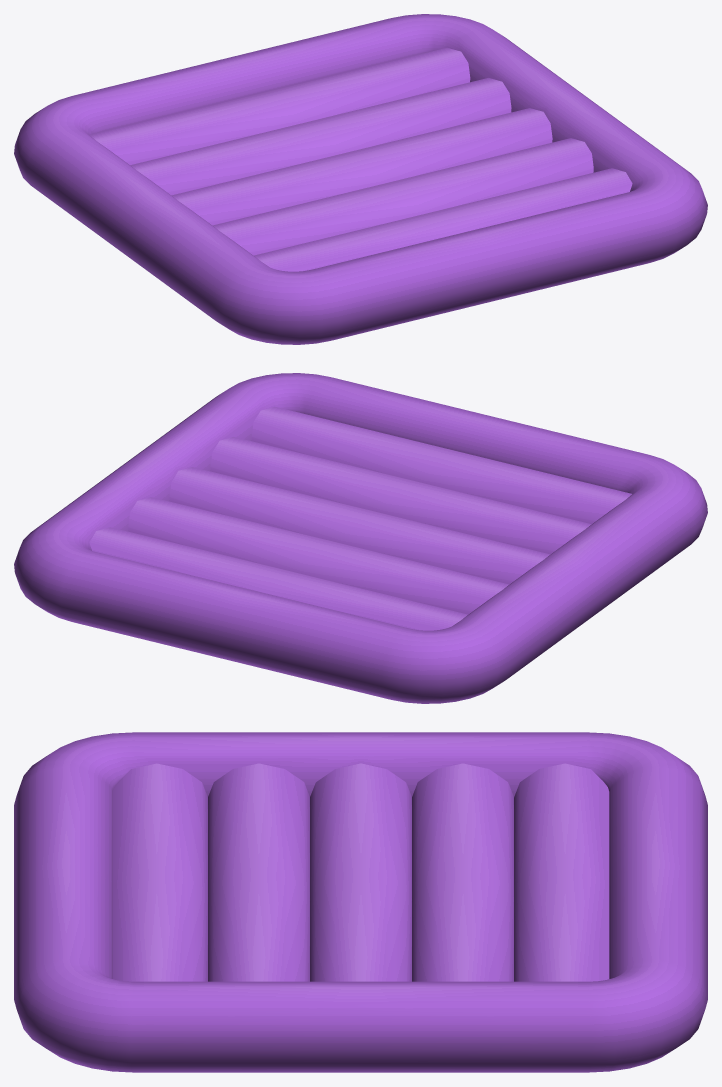
File: tube_cube_violet.fbx
3 renders of one model, top to bottom at view 1: azimuth 30°, elevation 25°; view 2: azimuth 150°, elevation 25°; view 3: azimuth 270°, elevation 25°, orthographic. The views are drawn at different scales.
Parts seen in each view (by area): view 1: tube_cube_violet; view 2: tube_cube_violet; view 3: tube_cube_violet.
Boxes of the visible parts, left/top/right/bottom form: tube_cube_violet: left=14, top=14, right=707, bottom=344; tube_cube_violet: left=14, top=373, right=707, bottom=703; tube_cube_violet: left=14, top=732, right=707, bottom=1072.
Size of the model in its own units: 80 by 10.09 by 80.
